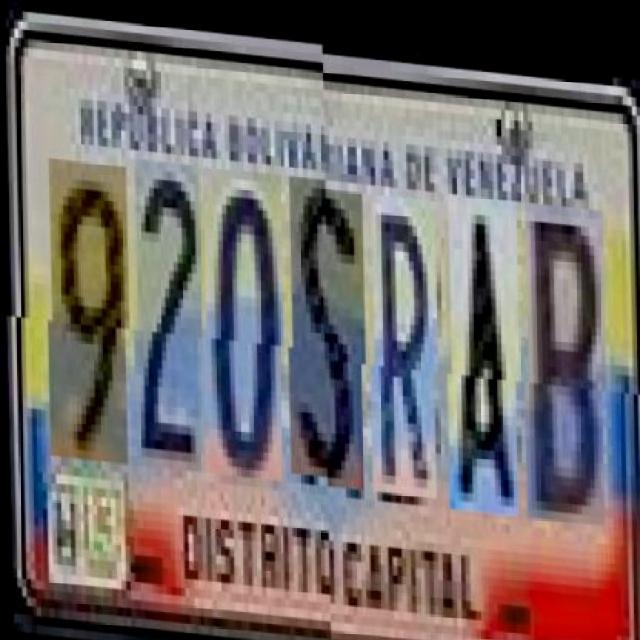2: (134, 164, 203, 477)
9: (48, 166, 130, 471)
a: (448, 183, 522, 505)
b: (524, 190, 608, 512)
o: (202, 171, 286, 485)
r: (370, 186, 439, 489)
s: (288, 179, 367, 482)
